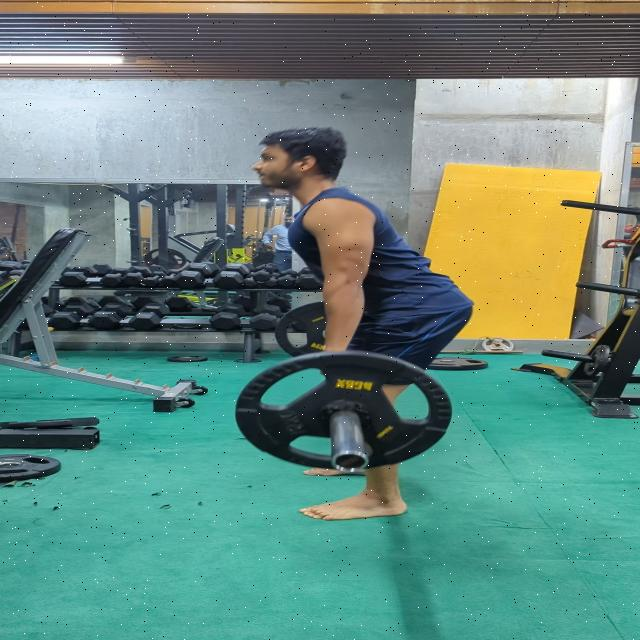Normal_Deadlifts: (250, 125, 472, 525)
